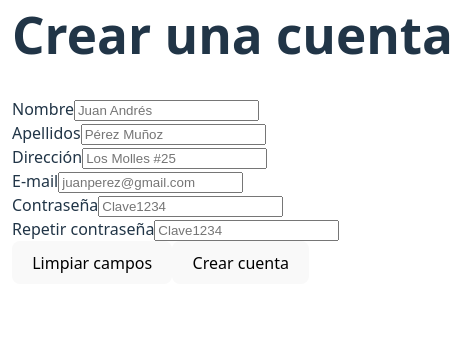
Formulario Component › envía correctamente el formulario con los datos válidos
Type "tomas ponce" into the field labelled "Nombre" at {"x": 166, "y": 110}, box [74,100,259,121]
Type "apellido test" into the field labelled "Apellidos" at {"x": 173, "y": 134}, box [81,124,266,145]
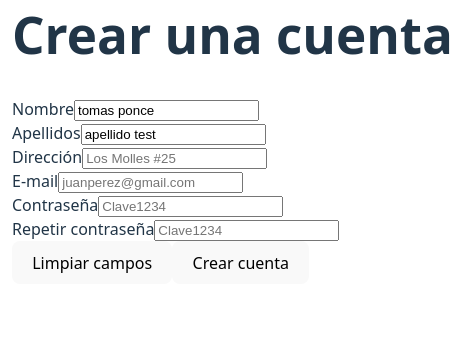
Type "direccion test" into the field labelled "Dirección" at {"x": 175, "y": 158}, box [82,148,267,169]
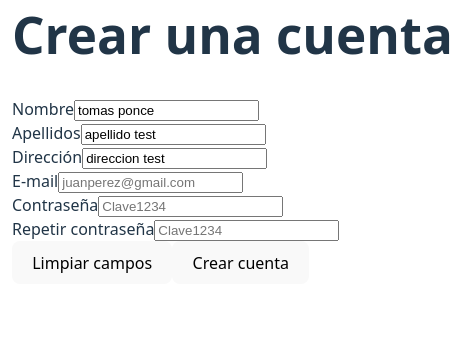
Type "tomas@correo.com" into the field labelled "E-mail" at {"x": 151, "y": 182}, box [58,172,243,193]
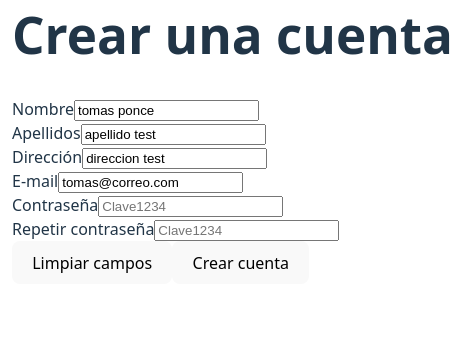
Type "Clave1234" into the password field labelled "Contraseña" at {"x": 191, "y": 206}, box [98,196,283,217]
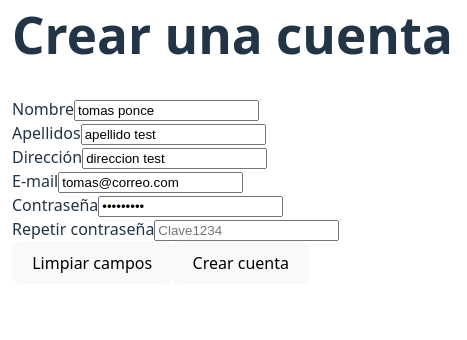
Type "Clave1234" into the password field labelled "Repetir contraseña" at {"x": 247, "y": 230}, box [154,220,339,241]
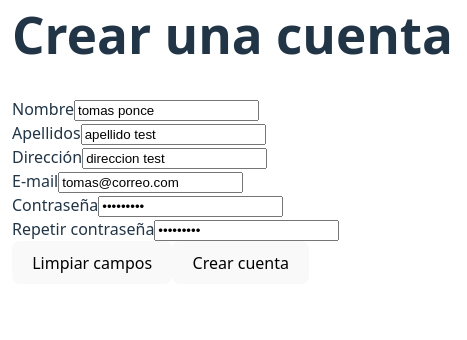
Click the button "Crear cuenta" at {"x": 241, "y": 262}, box [172,241,309,284]
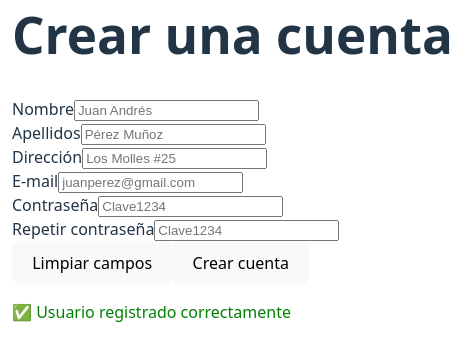
Check: the text "✅ Usuario registrado correctamente" is shown, box [12,301,291,323]
